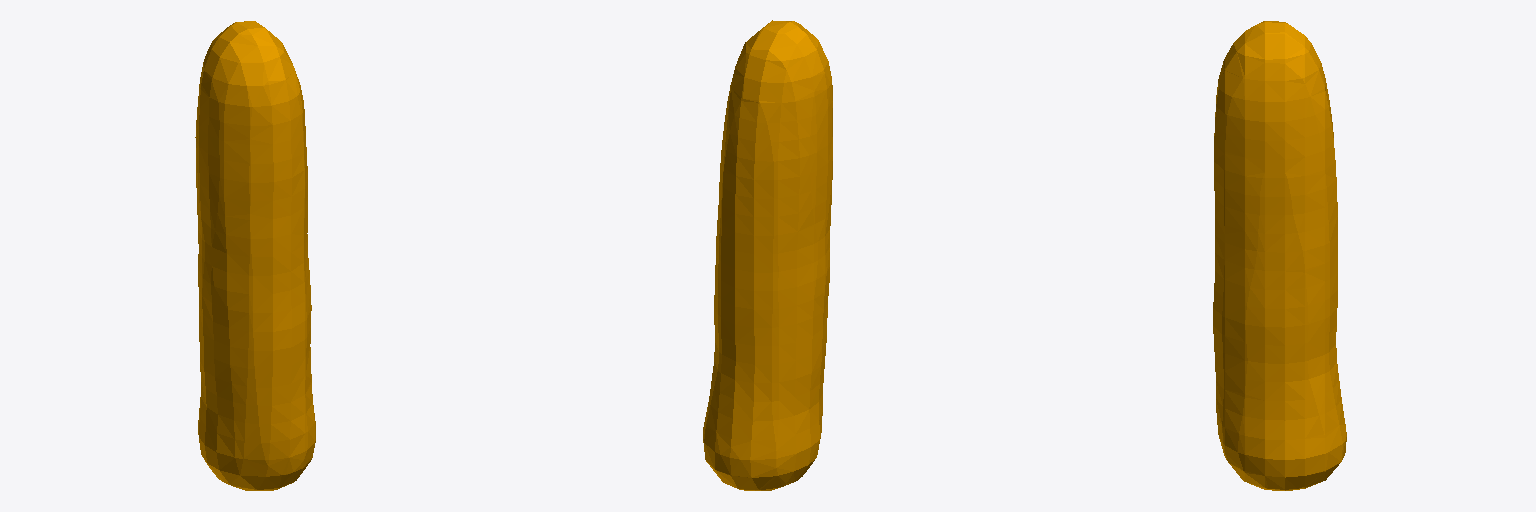
The robot description file, URDF, robot "030_fork":
<?xml version="1.0"?>
<robot name="030_fork">
  <link name="base_link">
    <inertial>
      <origin xyz="-0.001183 0.002163 0.039662" rpy="0 0 0" />
      <mass value="0.018993" />
      <inertia ixx="0.00000904" ixy="-0.00000002" ixz="0.00000031"
               iyy="0.00000894" iyz="0.00000019" izz="0.00000078" />
    </inertial>
    <visual>
      <geometry><mesh filename="030_fork.stl" scale="1.0 1.0 1.0" /></geometry>
    </visual>
    <collision>
      <geometry><mesh filename="030_fork_col.obj" scale="1.0 1.0 1.0" /></geometry>
    </collision>
    <contact>
      <lateral_friction value="1.0"/>
    </contact>
  </link>
</robot>

--- Render facts (derived) ---
3 views of the same robot in one strip: view 1: azimuth 30°, elevation 25°; view 2: azimuth 150°, elevation 25°; view 3: azimuth 270°, elevation 25° (orthographic).
Model 030_fork with 1 links and 0 joints (none), rooted at base_link, posed every joint at zero.
Links seen in each view (by area): view 1: base_link; view 2: base_link; view 3: base_link.
Boxes of the visible links, x1=… form: base_link: x1=195, y1=21, x2=315, y2=490; base_link: x1=703, y1=20, x2=832, y2=490; base_link: x1=1213, y1=21, x2=1346, y2=490.
Size in the robot's own frame: 0.0199 by 0.0216 by 0.0809 metres.
1 mesh visuals loaded from 1 distinct referenced files (1 binary STL).
